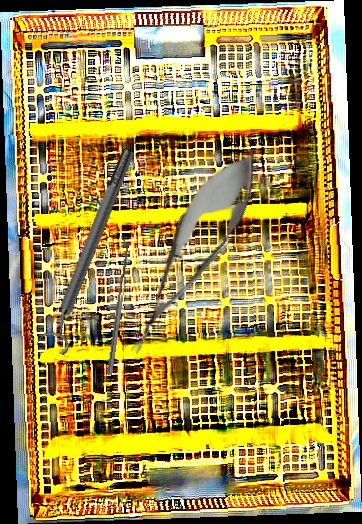Fixation Ring: (33, 144, 147, 357)
Micro Scissor: (110, 138, 275, 367)
Spatula Surgical: (101, 235, 132, 376)
